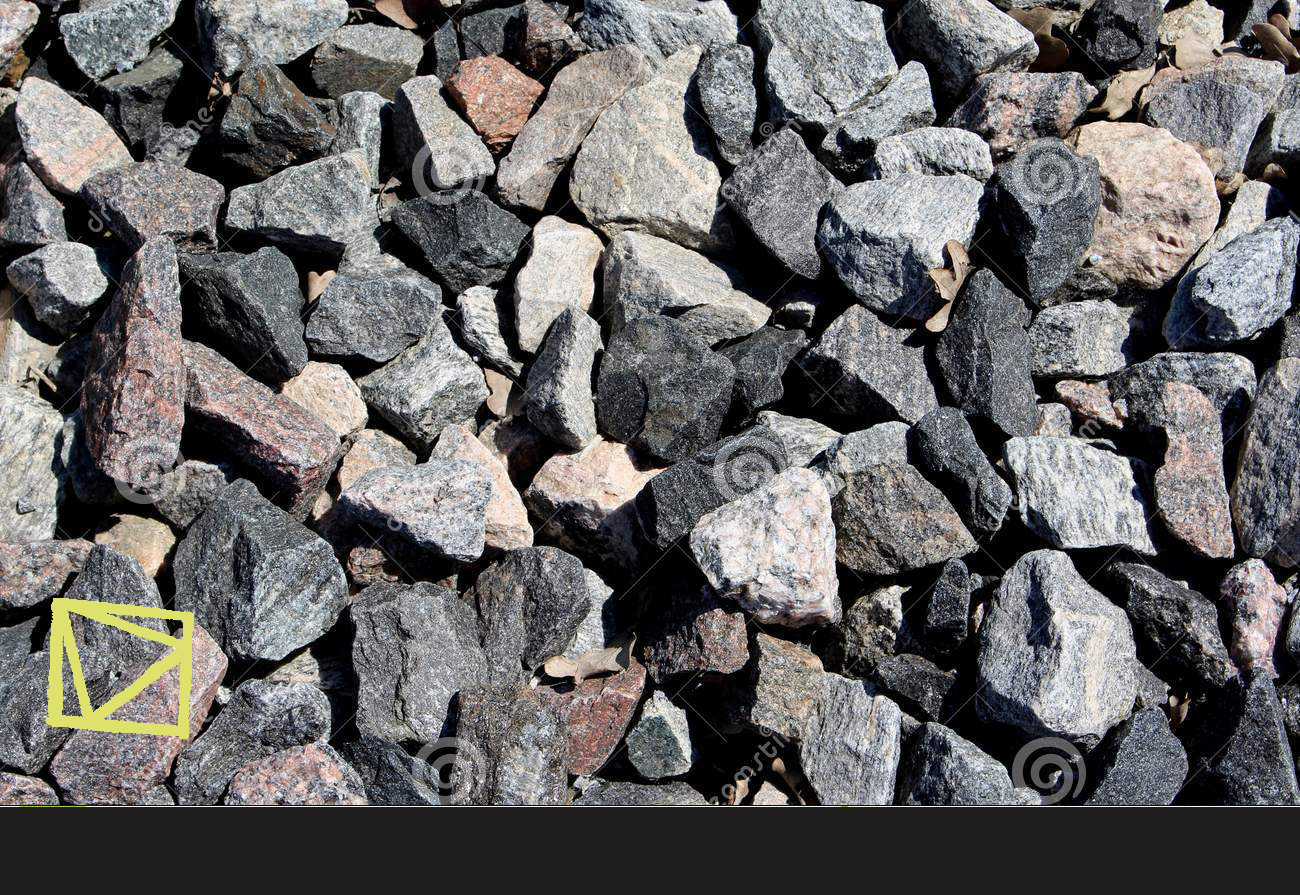marker: (34, 581, 202, 750)
